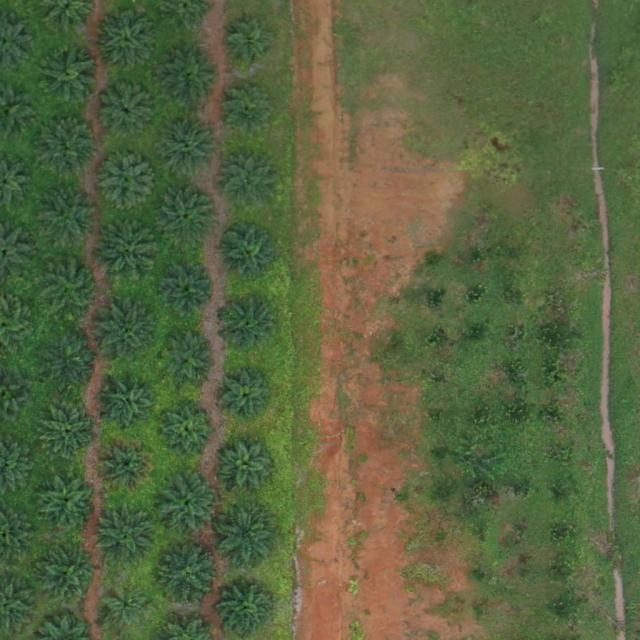Healthy: (160, 116, 223, 179), (37, 545, 100, 608), (95, 9, 158, 71), (37, 44, 99, 107), (37, 113, 99, 176), (40, 189, 102, 252), (97, 151, 159, 214), (96, 220, 158, 283), (97, 303, 159, 366), (156, 186, 218, 249), (218, 223, 280, 286), (155, 474, 218, 536), (37, 473, 99, 536), (158, 47, 220, 109), (42, 257, 104, 319), (41, 332, 103, 394), (215, 504, 277, 566), (157, 545, 219, 607), (96, 506, 158, 568), (101, 85, 156, 141), (159, 263, 214, 318), (223, 298, 278, 353), (221, 369, 276, 424), (102, 378, 157, 433), (221, 438, 276, 493), (43, 405, 98, 460), (162, 333, 216, 388), (222, 82, 276, 137), (222, 154, 276, 209), (160, 403, 214, 458)
Small: (222, 19, 277, 74), (104, 586, 151, 634)
Yellow: (100, 439, 154, 494)
